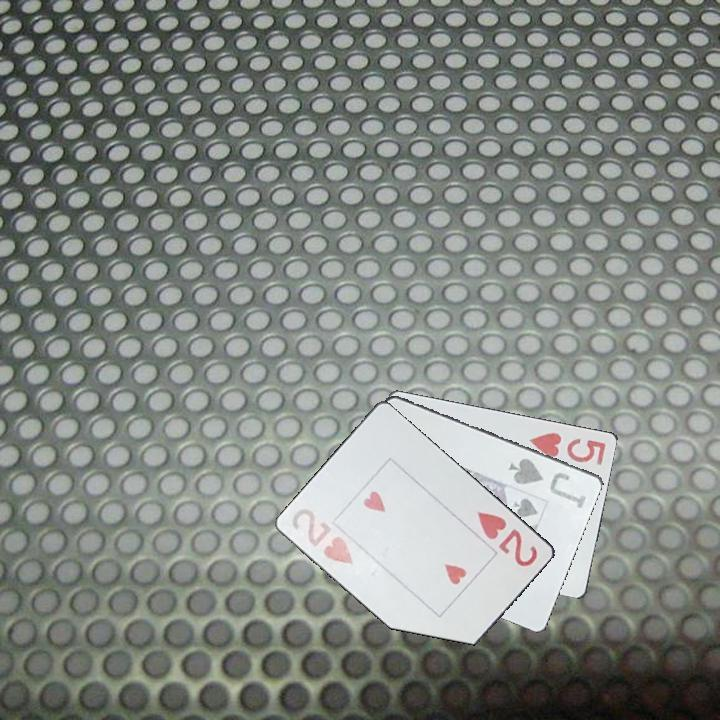2h: (288, 505, 358, 569), (474, 507, 541, 570)
5h: (526, 429, 609, 468)
Js: (505, 454, 591, 511)
